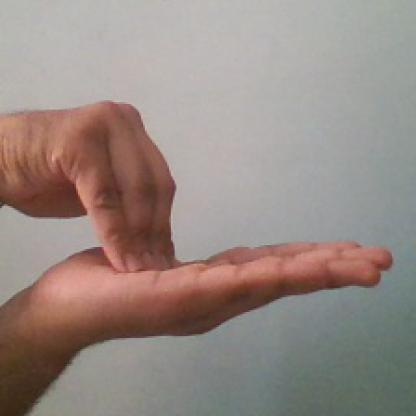Z: (16, 100, 392, 342)
